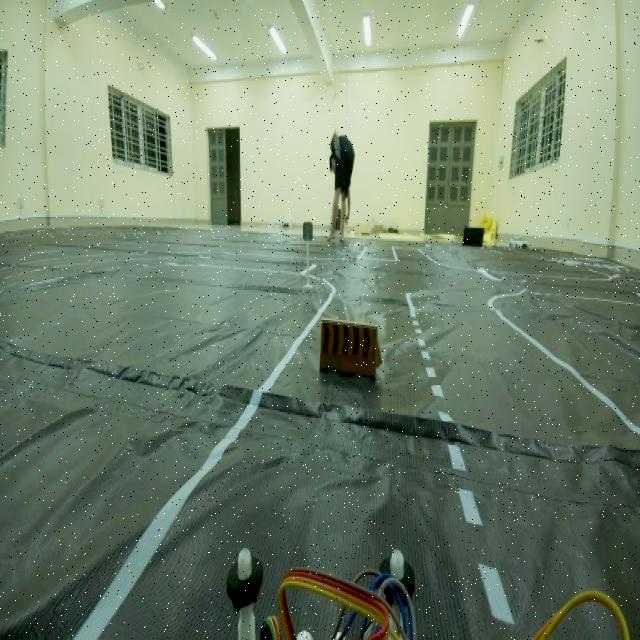roadblock: (315, 307, 386, 400)
